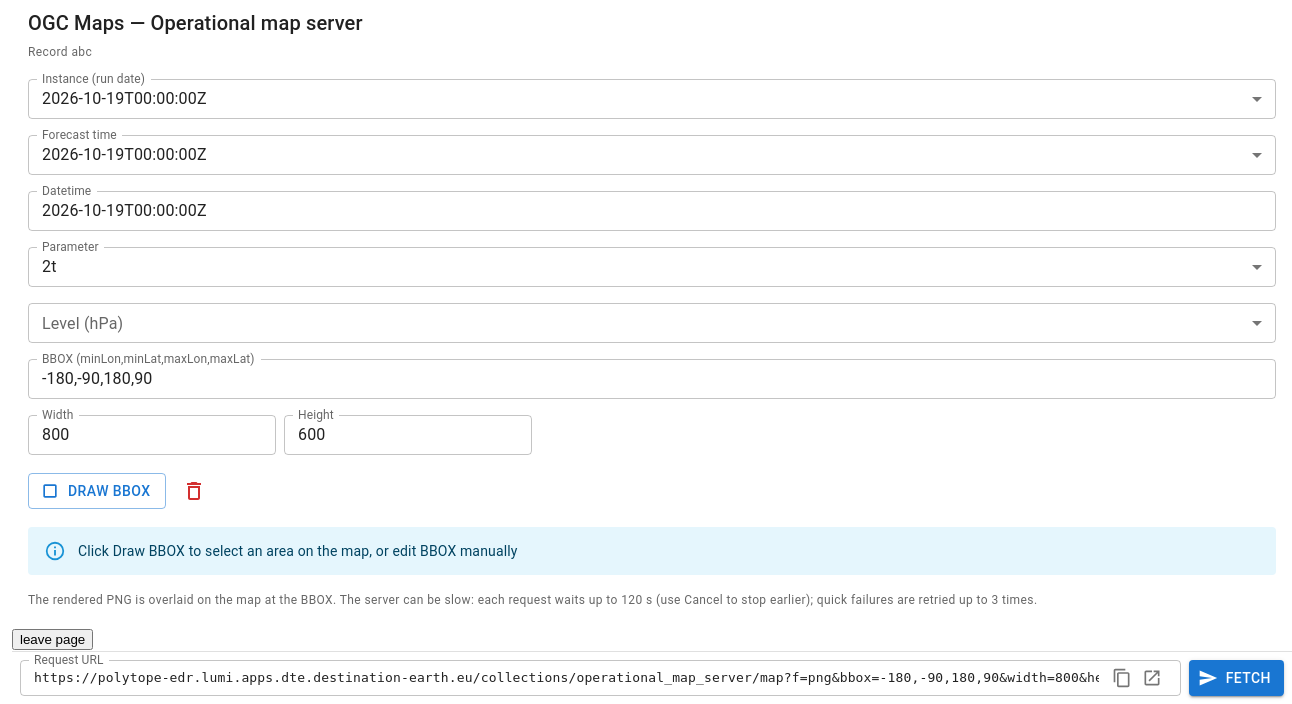
MapsPage › a map request that never answers can be cancelled
The width and height of the screenshot is (1292, 704).
(page scrolled)
Click the button "Fetch" at (1236, 678), box top-left (1188, 660), bottom-right (1284, 696)
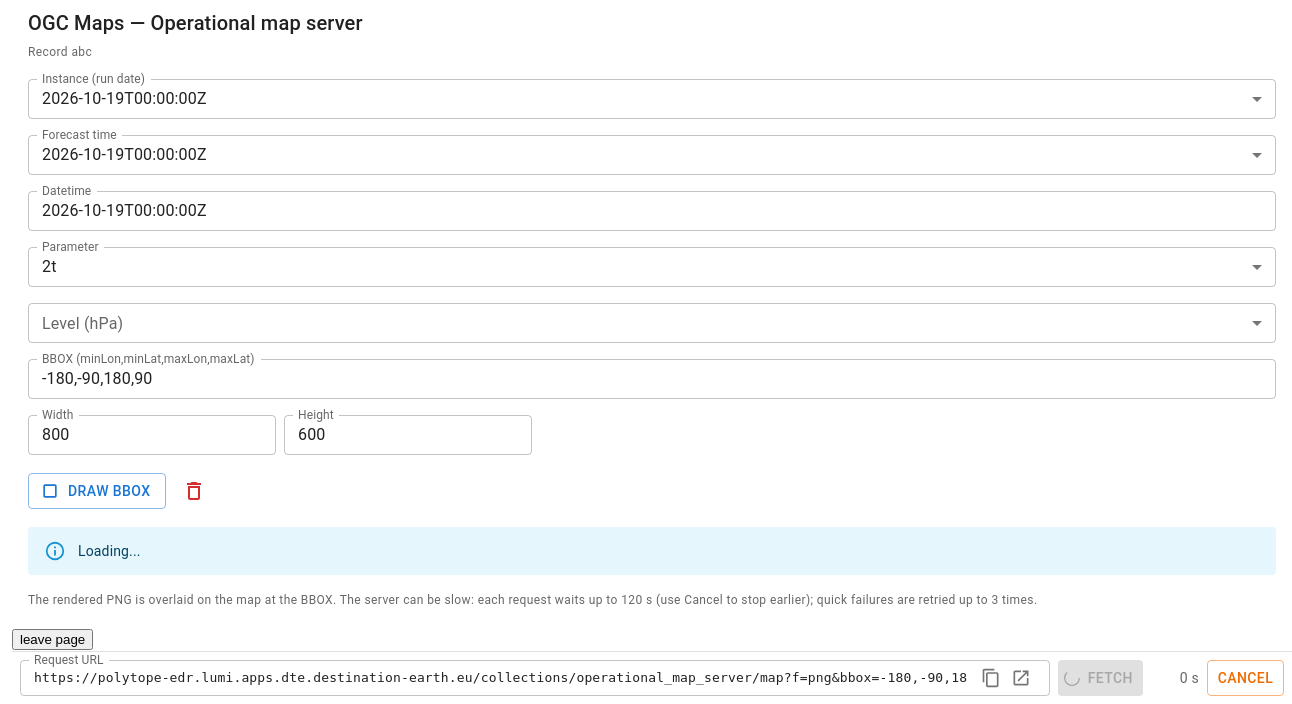
Now the text "0 s" is shown, box top-left (1180, 670), bottom-right (1199, 686)
Click the button "Cancel" at (1245, 678), box top-left (1207, 660), bottom-right (1284, 696)
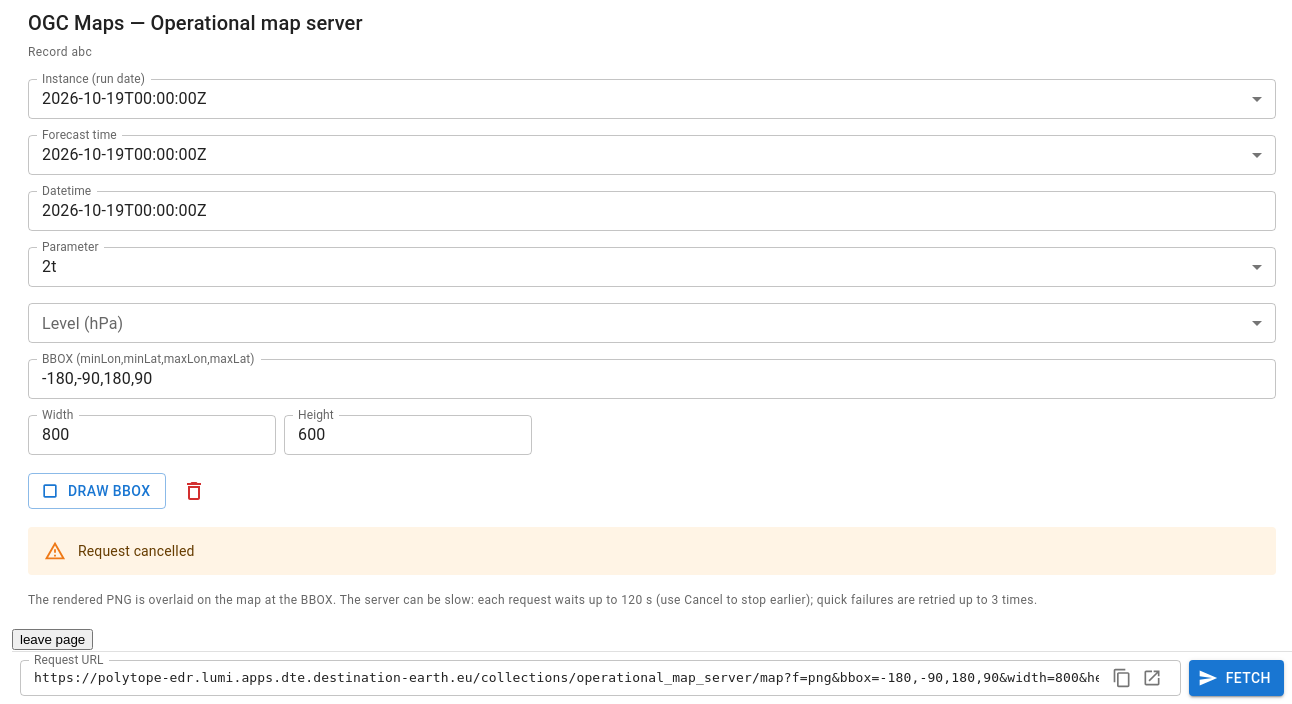
Now the message with test id "maps-status" reads "Request cancelled", box top-left (78, 543), bottom-right (194, 559)
Now the text with test id "request-elapsed" is gone
Now the button "Fetch" is enabled, box top-left (1188, 660), bottom-right (1284, 696)
